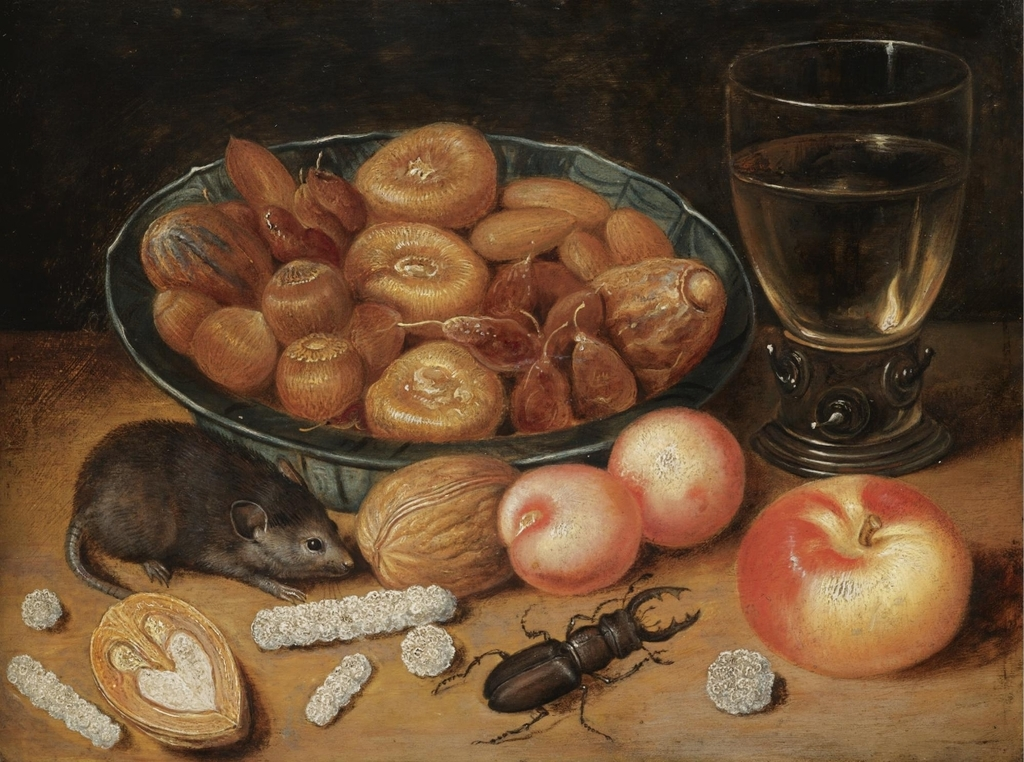Apple: (741, 474, 986, 680)
